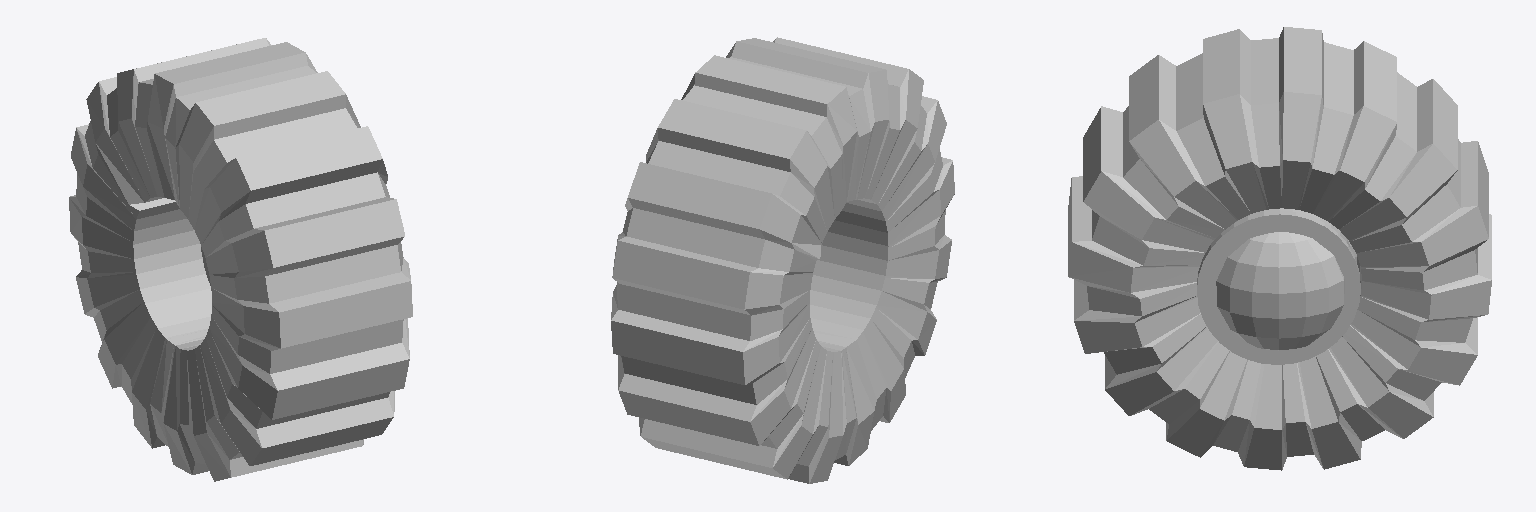
The model's file is backLeft.obj.
3 renders of one model, left to right at view 1: azimuth 30°, elevation 25°; view 2: azimuth 150°, elevation 25°; view 3: azimuth 270°, elevation 25°, orthographic.
Parts seen in each view (by area): view 1: Cylinder.047; view 2: Cylinder.047; view 3: Cylinder.047.
Boxes of the visible parts, x1,y1,x2,y2 form: Cylinder.047: [69, 38, 412, 481]; Cylinder.047: [611, 37, 954, 483]; Cylinder.047: [1068, 27, 1491, 470].
Bounding box in the file's own units: 0.8125 × 1.59 × 1.61.